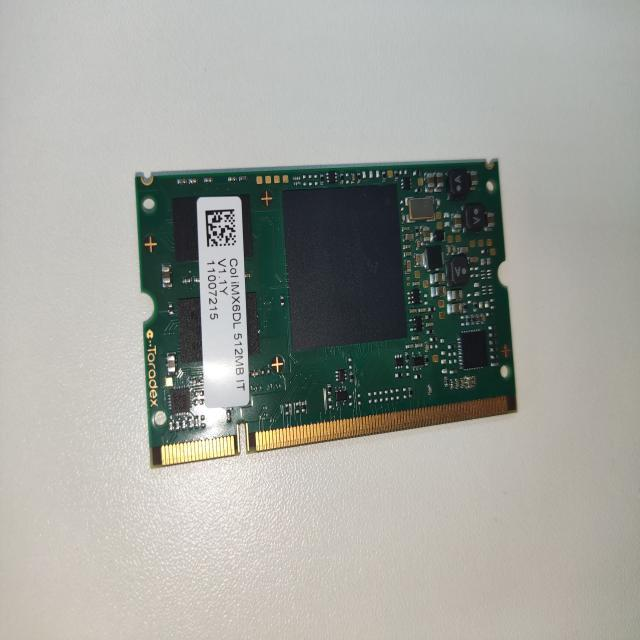som: (124, 156, 528, 468)
